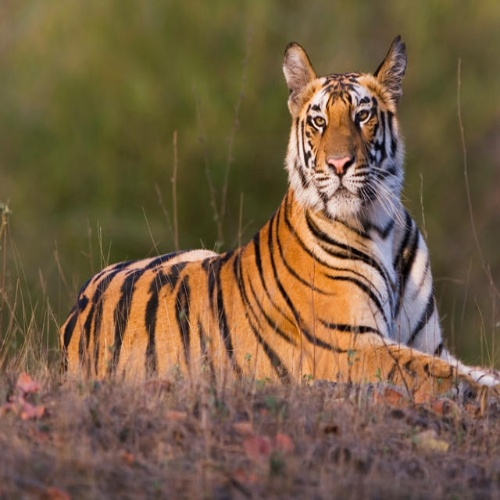tiger: (105, 9, 463, 412)
